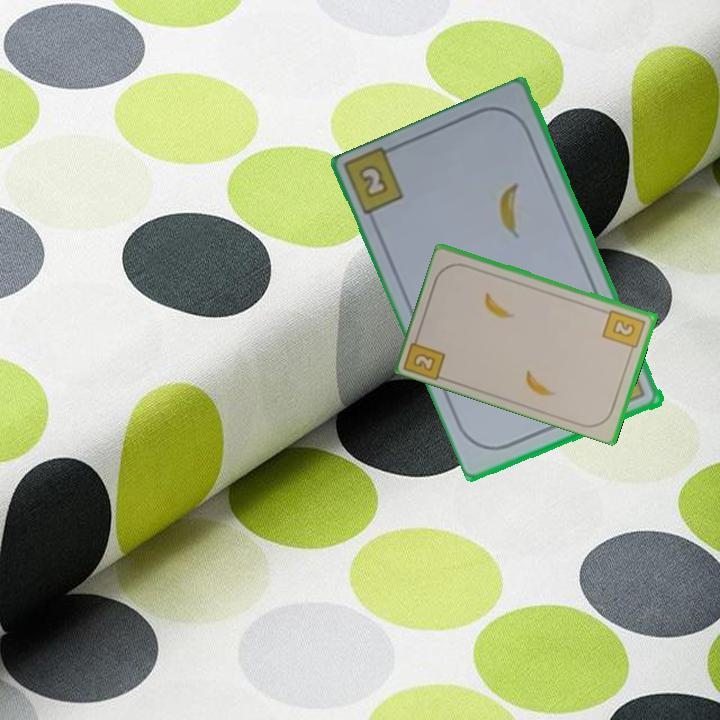2b: (600, 306, 649, 356), (403, 329, 449, 382), (355, 161, 392, 202)
